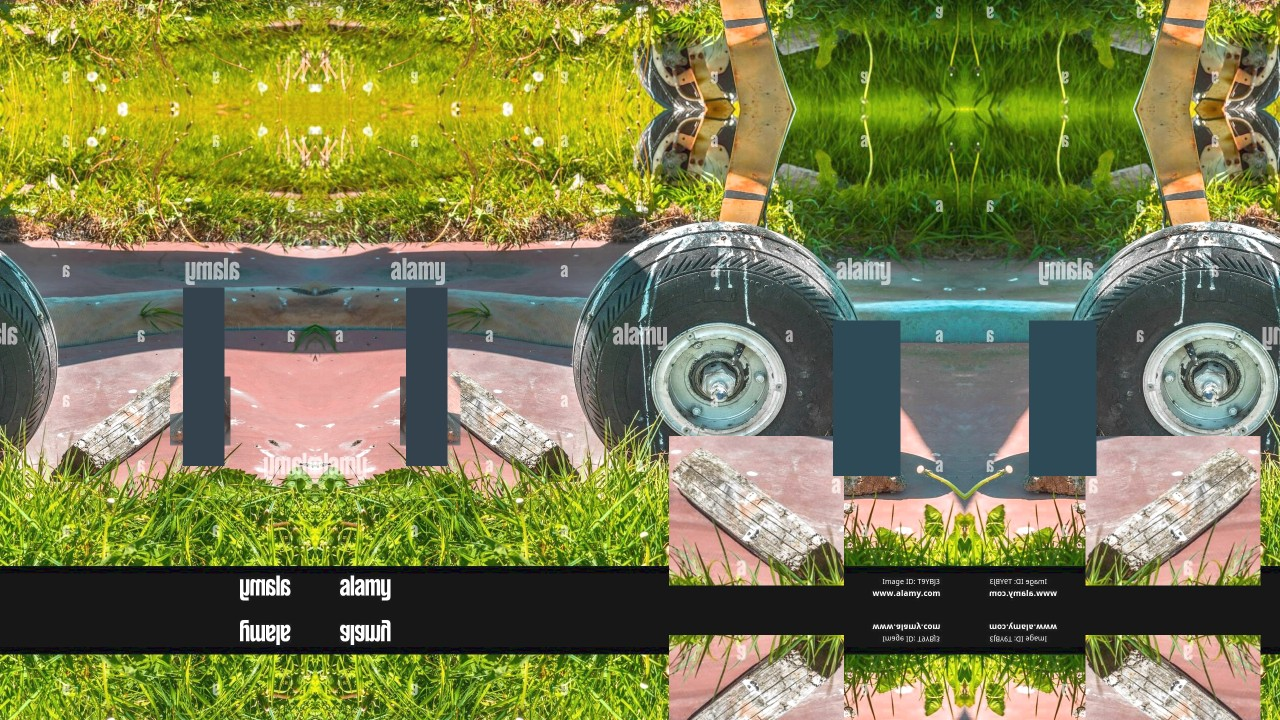chock: (669, 436, 844, 586), (1086, 436, 1261, 586), (59, 362, 198, 480), (432, 362, 571, 480), (669, 635, 844, 720), (1086, 635, 1261, 720), (820, 398, 907, 498), (1023, 398, 1110, 498), (400, 376, 461, 445), (170, 376, 230, 445)
wheel: (572, 222, 864, 483), (1066, 222, 1280, 483), (0, 222, 58, 483)
